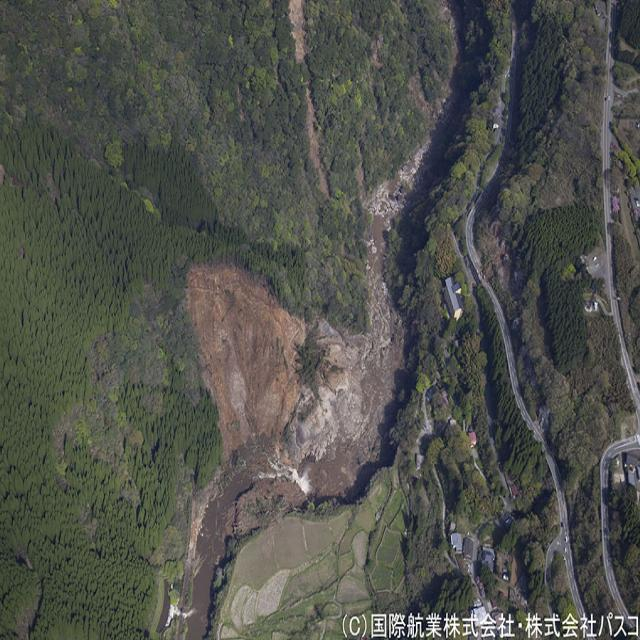Debris-flow: (178, 142, 428, 638), (305, 81, 329, 195), (289, 0, 310, 65)
